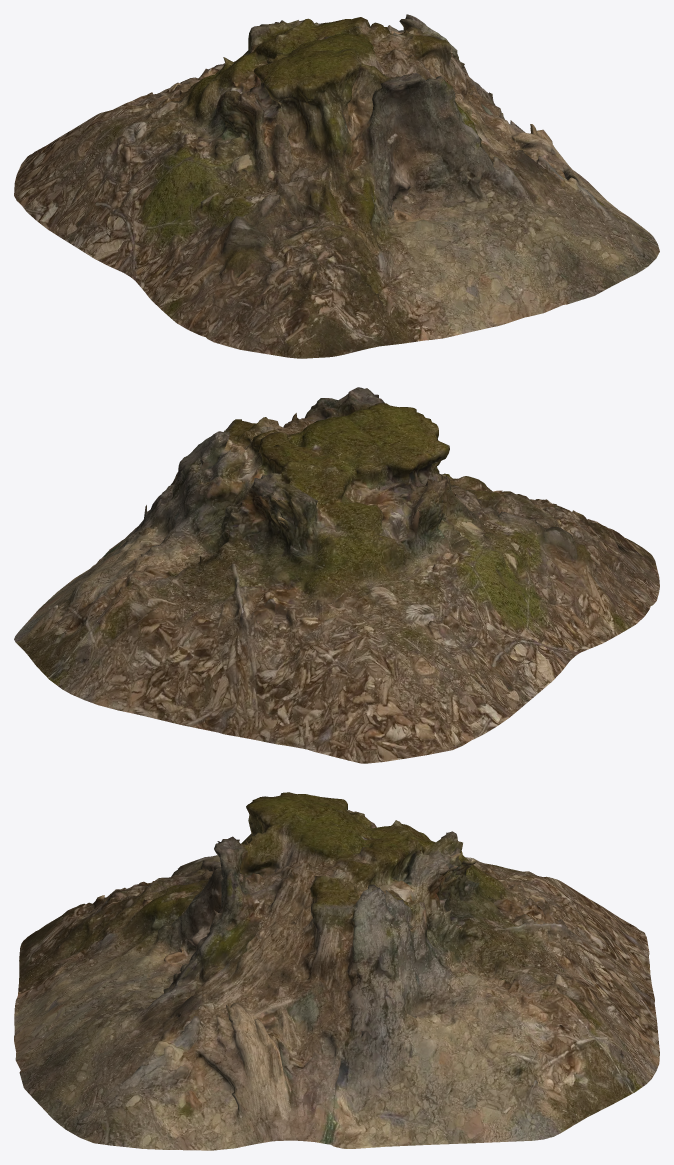
The model's file is tree_stump_01.glb.
The picture shows the model from 3 angles, top to bottom: view 1: azimuth 30°, elevation 25°; view 2: azimuth 150°, elevation 25°; view 3: azimuth 270°, elevation 25°; orthographic projection. The views are drawn at different scales.
Parts seen in each view (by area): view 1: tree_stump_01; view 2: tree_stump_01; view 3: tree_stump_01.
Part boxes in pixels (<box>): tree_stump_01: <box>14,14,659,358</box>; tree_stump_01: <box>14,387,659,763</box>; tree_stump_01: <box>14,792,659,1150</box>.
Size of the model in its own units: 1.43 by 0.5725 by 1.59.
1 material, 1 textured.
